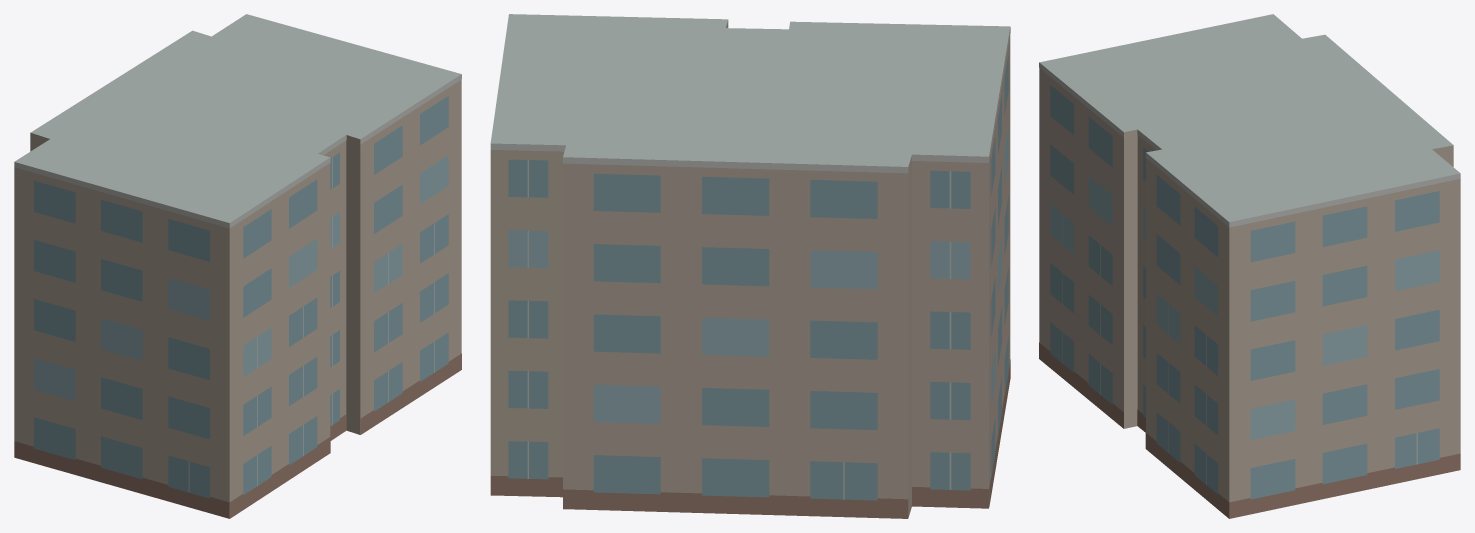
File: survey-upis-32708344.glb
3 views of the same model, side by side, from view 1: azimuth 30°, elevation 25°; view 2: azimuth 150°, elevation 25°; view 3: azimuth 270°, elevation 25° (orthographic). The views are drawn at different scales.
Visible parts, largest first — view 1: survey-upis-32708344.tmp; view 2: survey-upis-32708344.tmp; view 3: survey-upis-32708344.tmp.
Part boxes in pixels (x1,y1,x2,y2): survey-upis-32708344.tmp: (14,14,461,518); survey-upis-32708344.tmp: (490,14,1010,518); survey-upis-32708344.tmp: (1039,14,1460,518).
Size of the model in its own units: 20.49 by 13.6 by 17.52.
